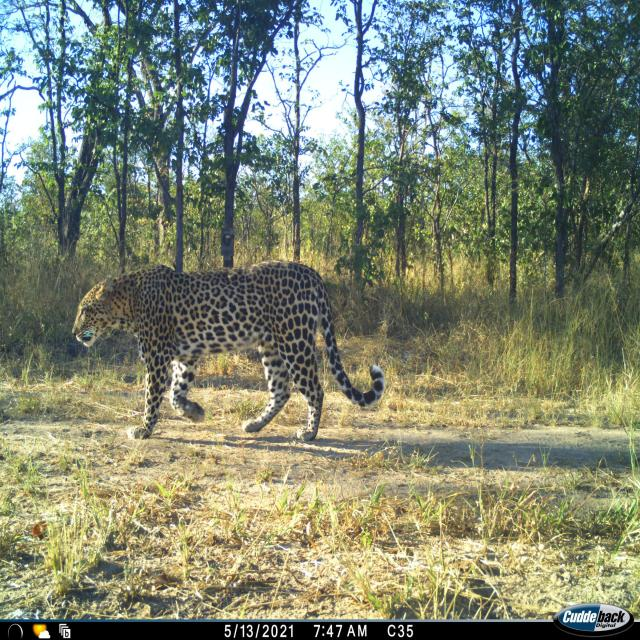Leopard: (80, 268, 387, 458)
